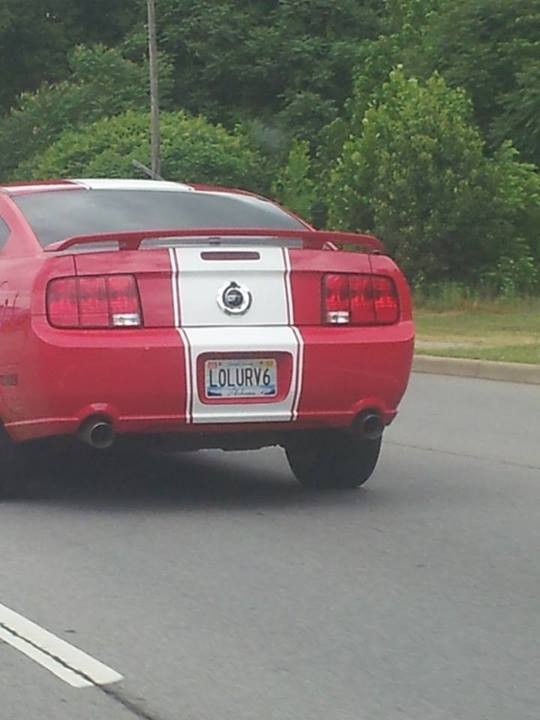license plate: (202, 355, 280, 404)
